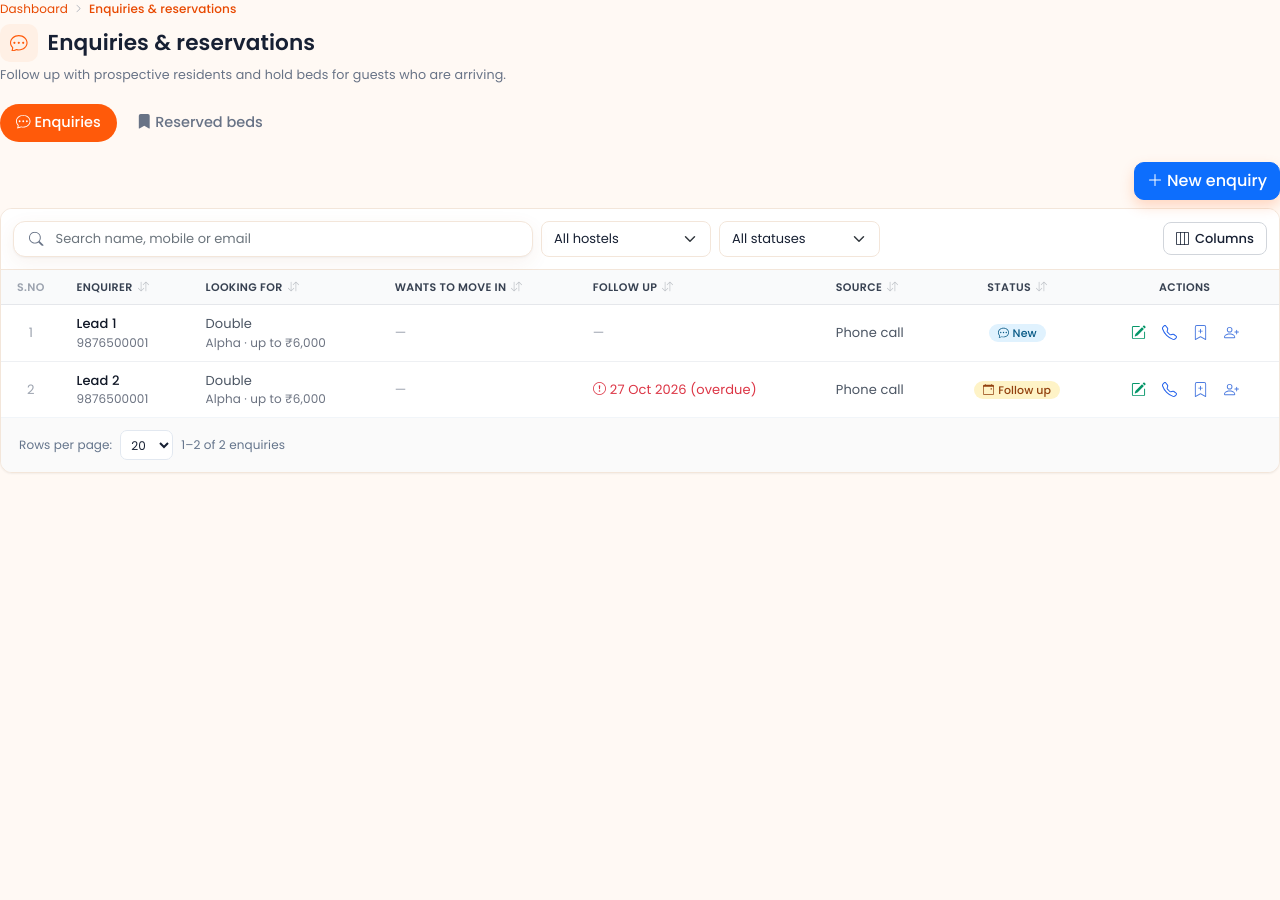
Scenario: permission-based actions › converting creates the resident and goes to their profile
Click the button named "Convert to resident" in the row of "Lead 1" at (1231,333), box [1218,320,1245,345]
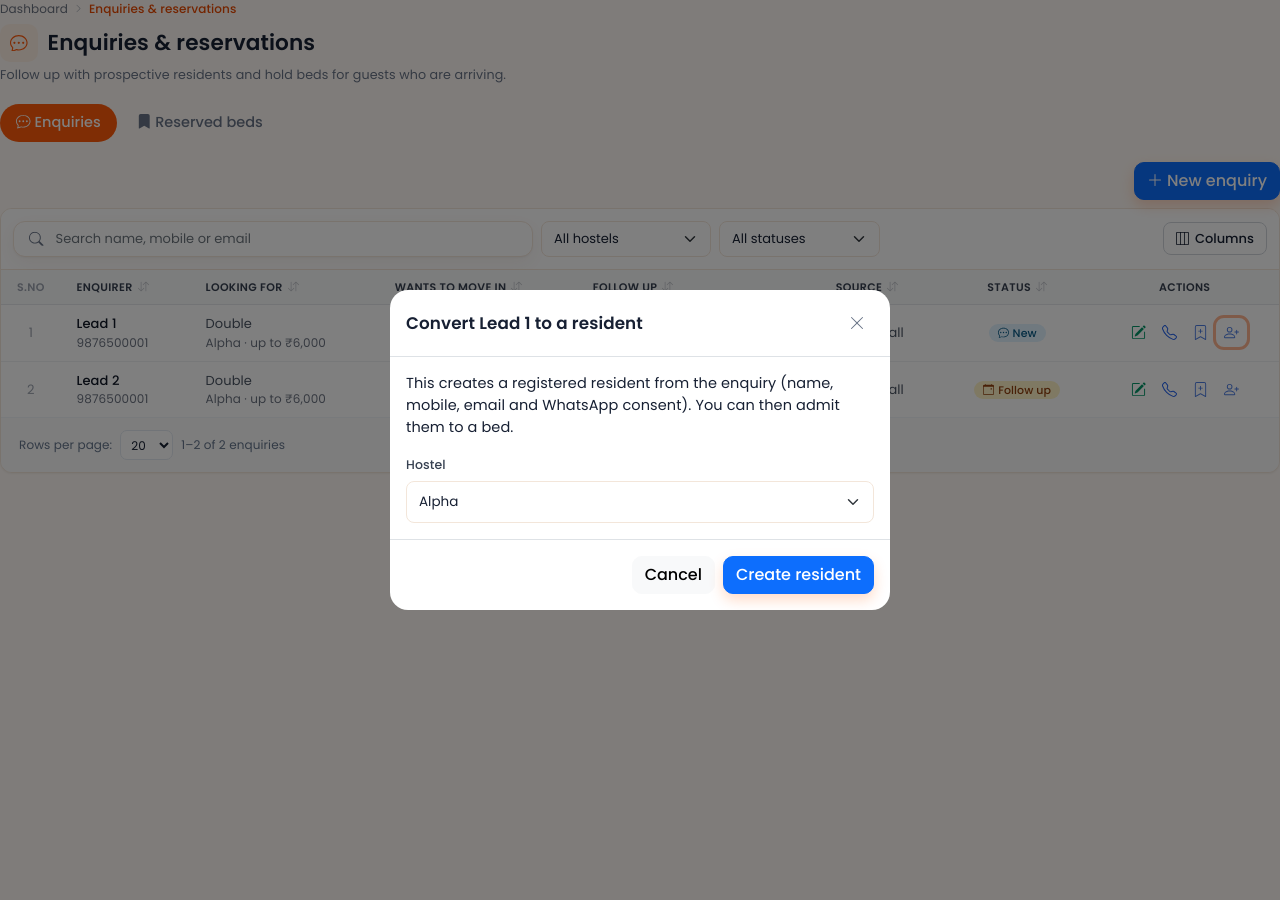
Result: the dropdown labelled "Hostel" shows "Alpha" at [406,481,874,523]
Click the button "Create resident" at (798,575), box [723,556,874,594]
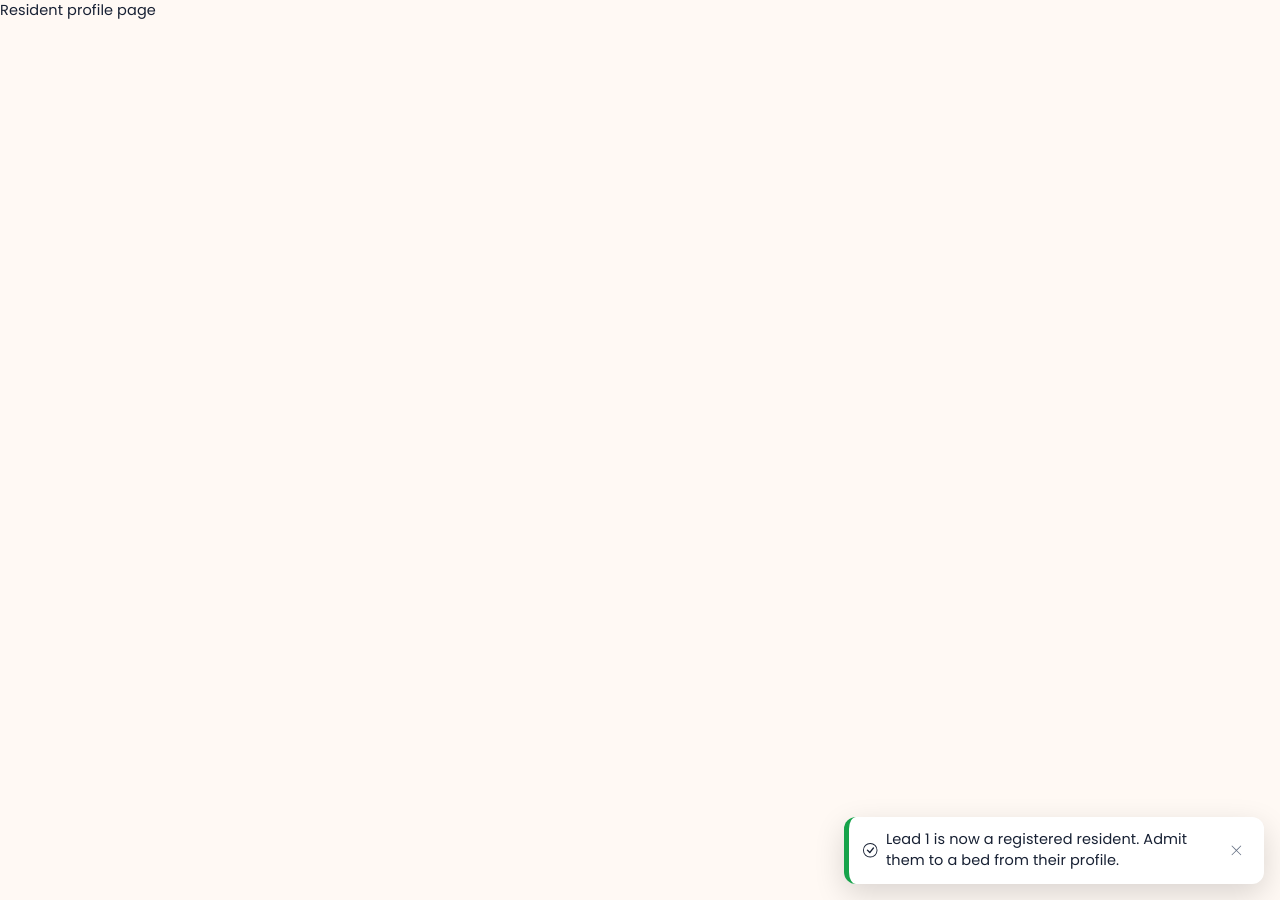
Result: the text "Resident profile page" is shown at [0,0,156,20]
